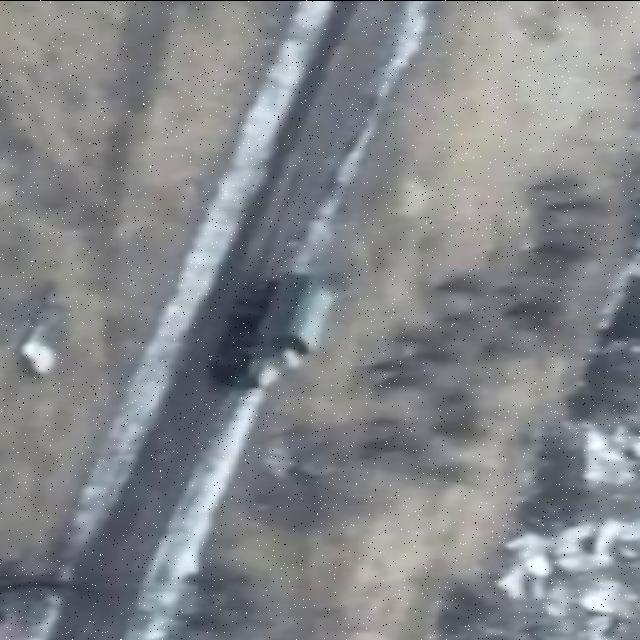TRUCK: (213, 276, 337, 392)
